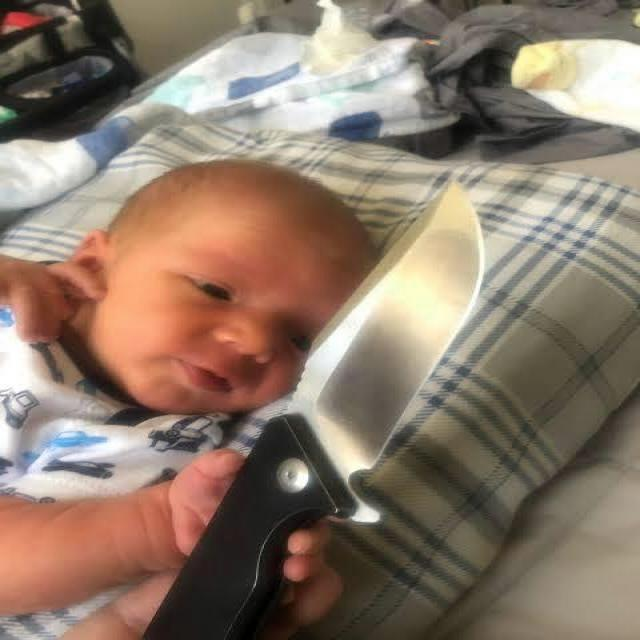child: (0, 133, 502, 640)
